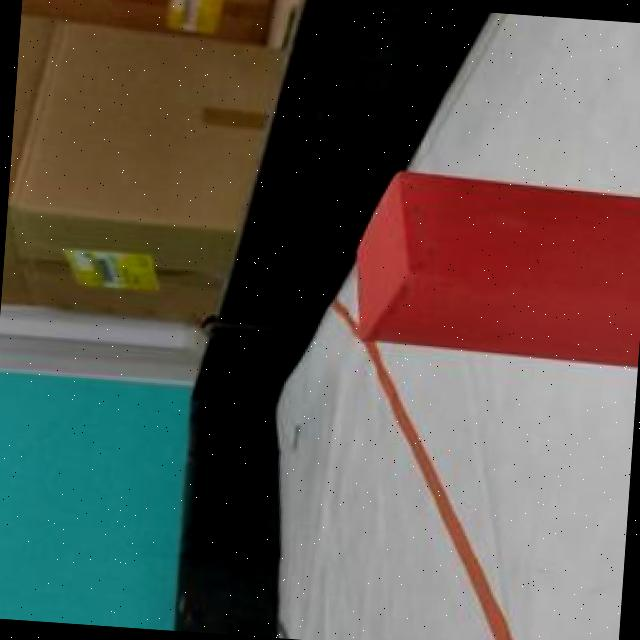redbox: (346, 166, 640, 366)
